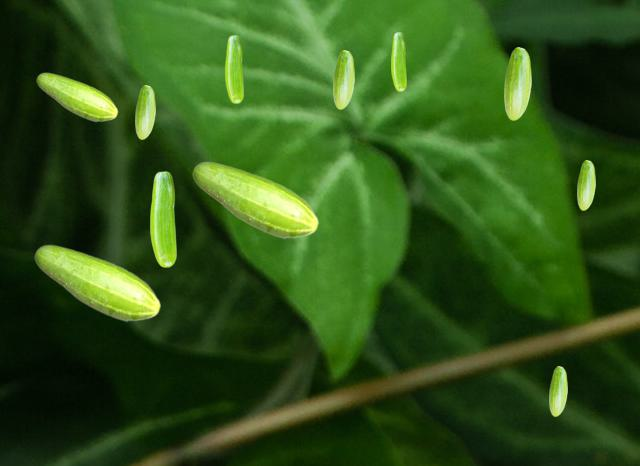cucumber: (192, 161, 318, 238), (34, 244, 160, 321), (36, 72, 117, 121), (150, 171, 175, 266), (504, 47, 530, 119), (333, 50, 353, 108), (225, 35, 242, 102), (135, 85, 154, 138), (549, 366, 566, 415), (577, 160, 594, 209), (391, 32, 405, 90)
